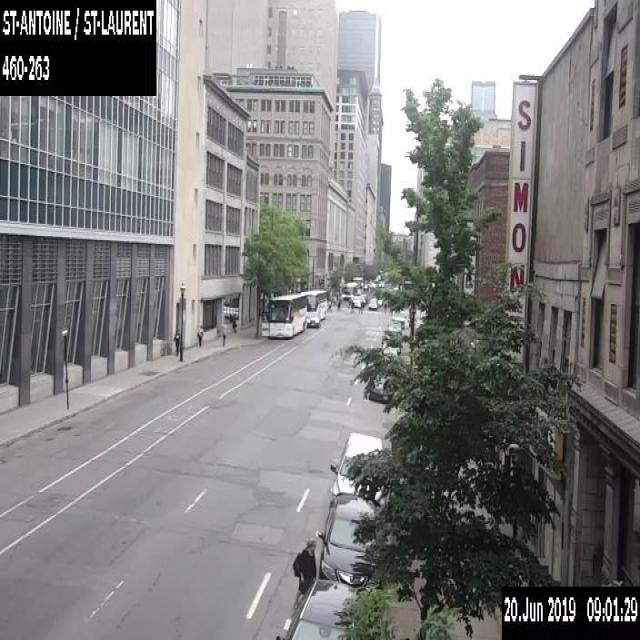bus: (260, 292, 307, 337), (300, 288, 327, 320), (341, 280, 357, 300)
pedestrian: (291, 532, 317, 609), (172, 328, 181, 355), (197, 324, 204, 348), (229, 312, 236, 332), (220, 325, 226, 347), (382, 300, 387, 316), (349, 299, 354, 312), (359, 300, 363, 314), (337, 298, 340, 310)
vehicle: (318, 492, 384, 592), (276, 576, 370, 638), (329, 431, 386, 505), (368, 376, 392, 402), (388, 315, 405, 340), (381, 330, 400, 352), (306, 310, 320, 326), (358, 293, 368, 303), (368, 297, 377, 308), (352, 295, 360, 307), (376, 297, 383, 304)
